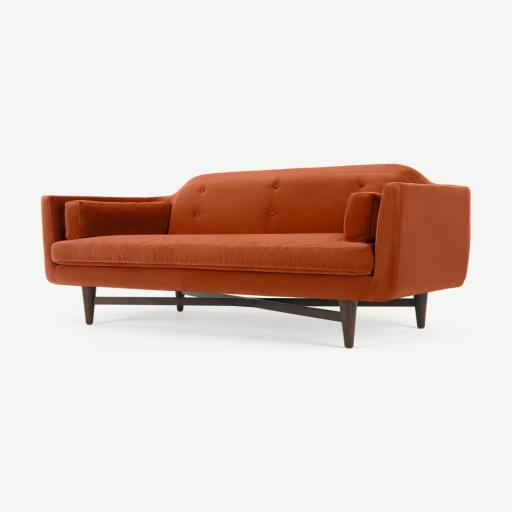back_cushion: (169, 165, 429, 243)
base: (53, 265, 382, 301)
left_arm: (369, 183, 470, 300)
legs: (82, 286, 356, 348), (359, 293, 427, 328)
one-seater: (42, 165, 470, 348)
right_arm: (42, 195, 160, 283)
seat_cushion: (51, 233, 373, 276)
